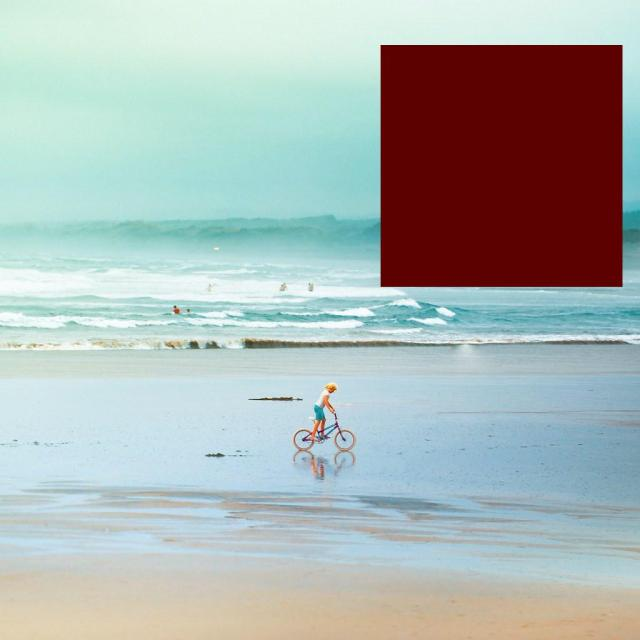RedSquare: (374, 39, 630, 298)
